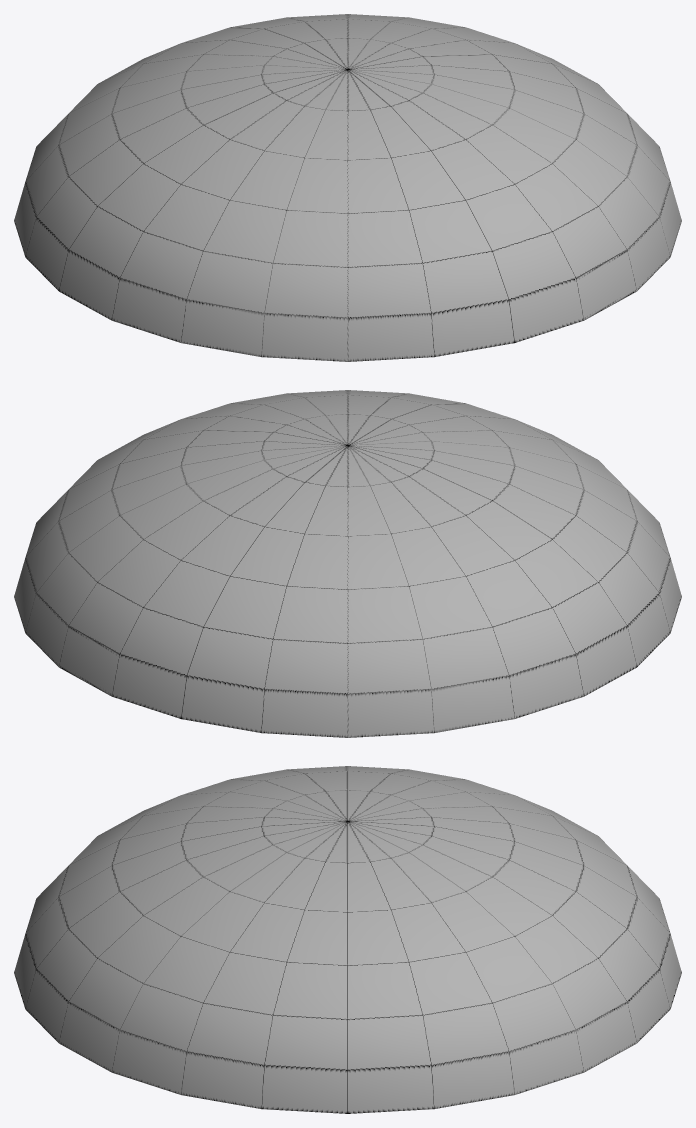
The model's file is DomeGeneric.obj.
3 renders of one model, top to bottom at view 1: azimuth 30°, elevation 25°; view 2: azimuth 150°, elevation 25°; view 3: azimuth 270°, elevation 25°, orthographic.
Visible parts, largest first — view 1: sphere1_cut2; view 2: sphere1_cut2; view 3: sphere1_cut2.
Boxes of the visible parts, box(x1,y1,x2,y2) form: sphere1_cut2: box(14, 14, 681, 361); sphere1_cut2: box(14, 390, 681, 737); sphere1_cut2: box(14, 766, 681, 1113).
Size of the model in its own units: 1 by 0.25 by 1.
1 material, 1 textured.
